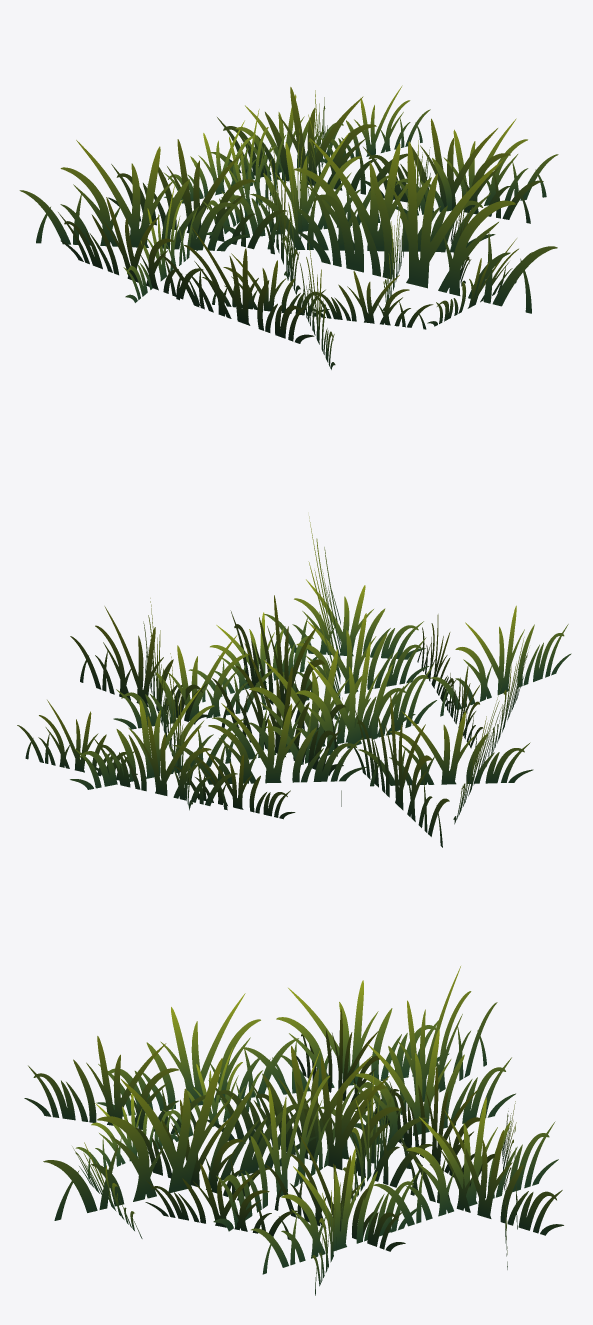
The model's file is high_grass_04.gltf.
3 renders of one model, top to bottom at view 1: azimuth 30°, elevation 25°; view 2: azimuth 150°, elevation 25°; view 3: azimuth 270°, elevation 25°, orthographic. The views are drawn at different scales.
Visible parts, largest first — view 1: default; view 2: default; view 3: default.
Part boxes in pixels (bbox=[...]): default: bbox=[19, 85, 558, 369]; default: bbox=[17, 516, 571, 847]; default: bbox=[24, 966, 563, 1295].
Size of the model in its own units: 1.91 by 0.7728 by 1.84.
1 material, 1 textured.
